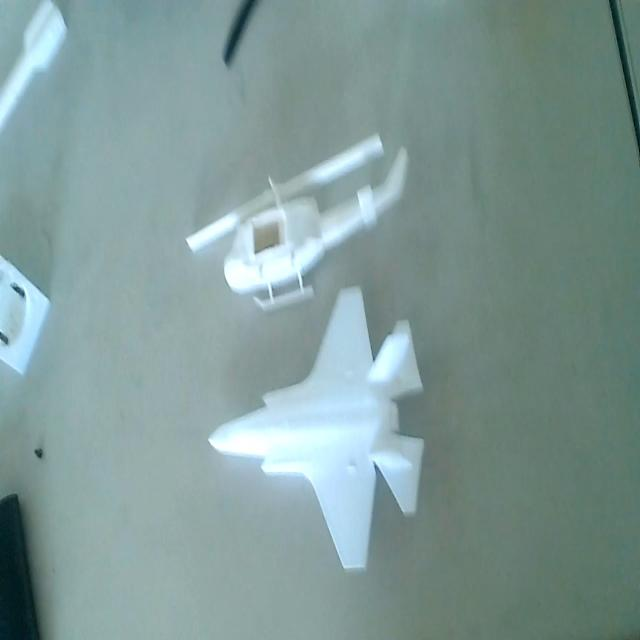Helicopter: (187, 132, 410, 318)
Jet: (202, 284, 430, 574)
Rocket: (0, 0, 70, 139)
